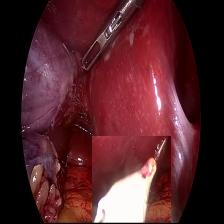Grasper: (81, 1, 145, 79)
Hook: (92, 136, 171, 224)
